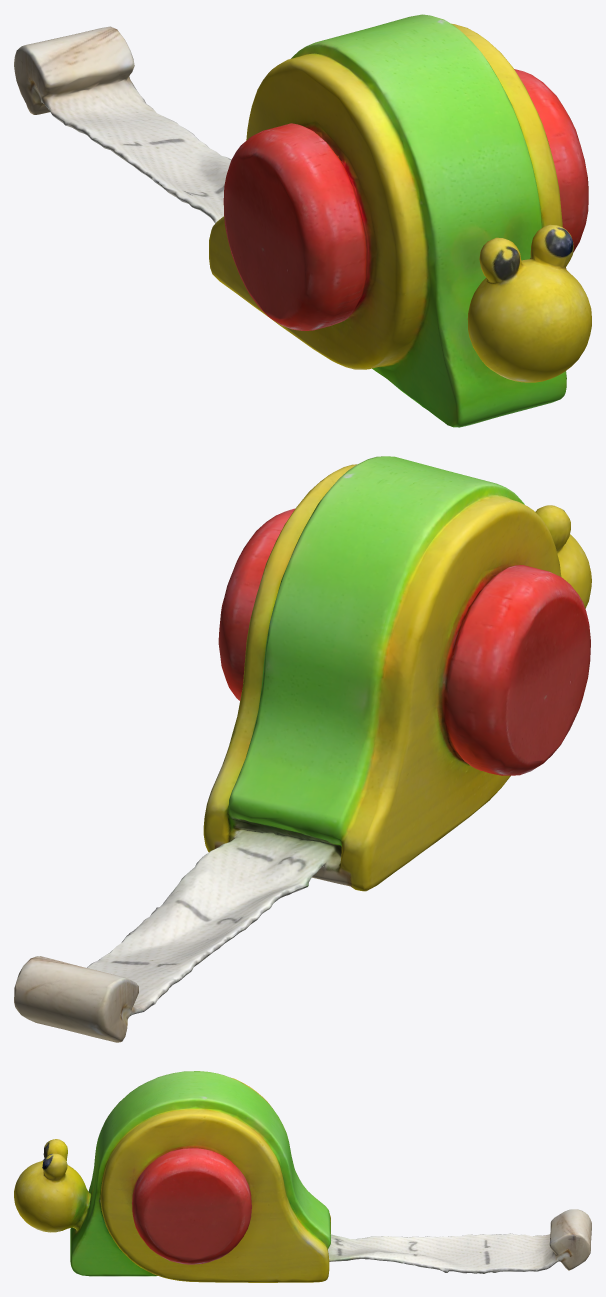
The model's file is SNAIL_MEASURING_TAPE.glb.
The picture shows the model from 3 angles, top to bottom: view 1: azimuth 30°, elevation 25°; view 2: azimuth 150°, elevation 25°; view 3: azimuth 270°, elevation 25°; orthographic projection. The views are drawn at different scales.
Visible parts, largest first — view 1: SNAIL_MEASURING_TAPE; view 2: SNAIL_MEASURING_TAPE; view 3: SNAIL_MEASURING_TAPE.
Part boxes in pixels (bbox=[...]): SNAIL_MEASURING_TAPE: bbox=[14, 14, 591, 427]; SNAIL_MEASURING_TAPE: bbox=[14, 456, 591, 1042]; SNAIL_MEASURING_TAPE: bbox=[14, 1071, 591, 1282].
Size of the model in its own units: 0.0639 by 0.0657 by 0.1945.
1 material, 1 textured.
